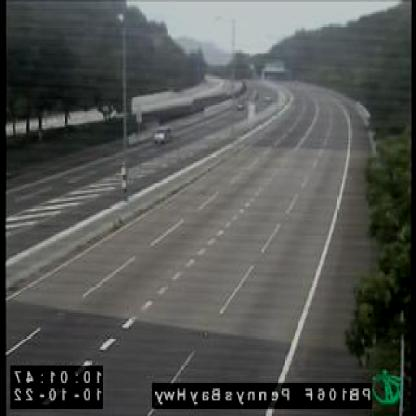Car: (155, 126, 172, 144)
